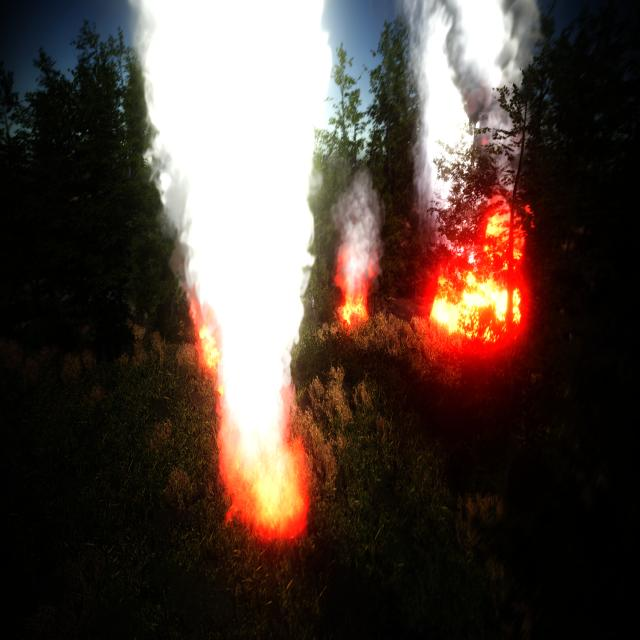Human: (308, 291, 318, 324)
